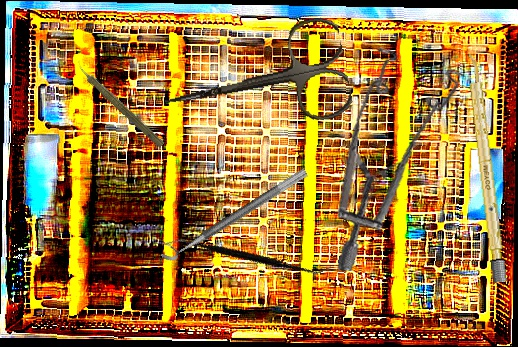Fixation Ring: (154, 155, 309, 266)
Handpiece: (71, 58, 168, 150)
Iris Scissors: (154, 14, 356, 150)
Scalpel Handle: (465, 53, 507, 283)
Spatula Surgical: (166, 192, 332, 319)
Speculum: (311, 38, 486, 273)
